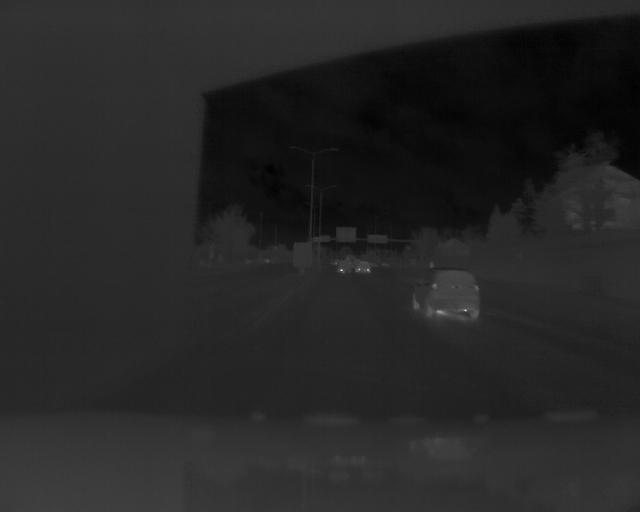car: (408, 264, 484, 323)
